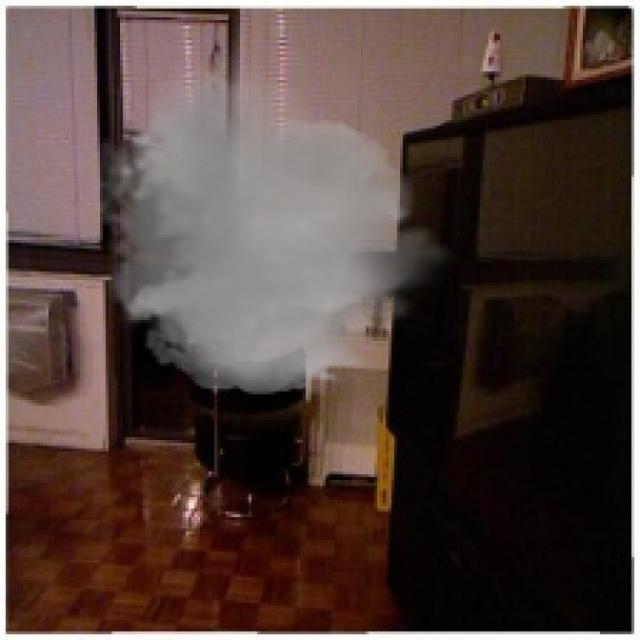Smoke: (77, 51, 460, 403)
